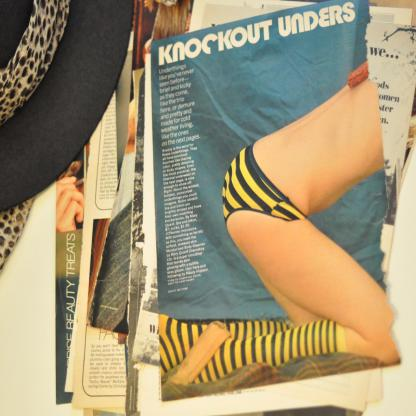book: (51, 0, 416, 416)
